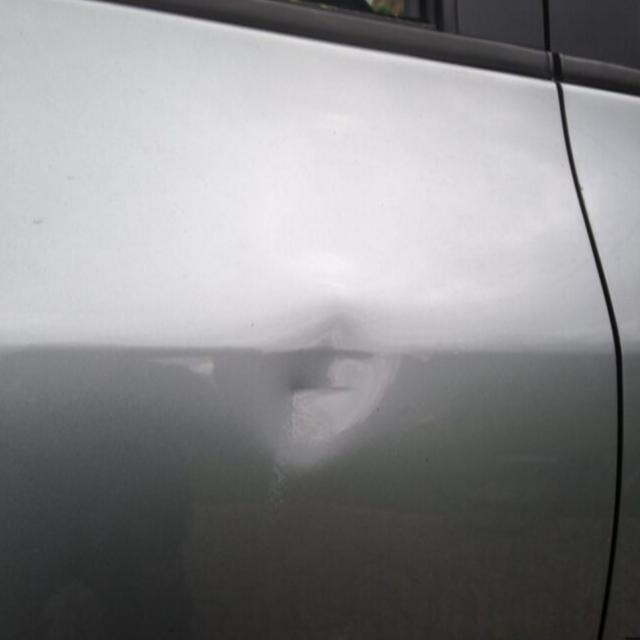dents: (244, 264, 408, 473)
